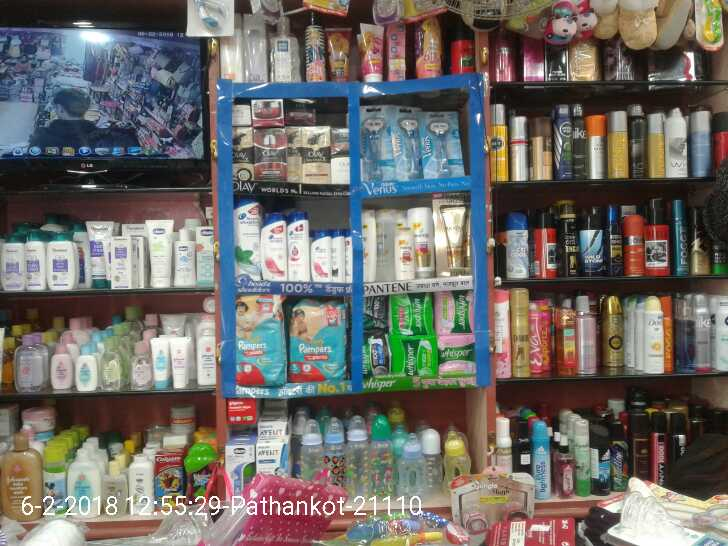venus: (391, 104, 425, 176), (425, 109, 460, 176), (361, 104, 391, 181)
